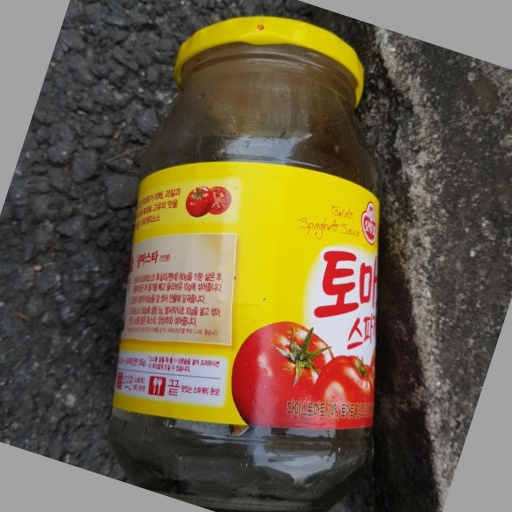Glass_5: (110, 16, 378, 502)
